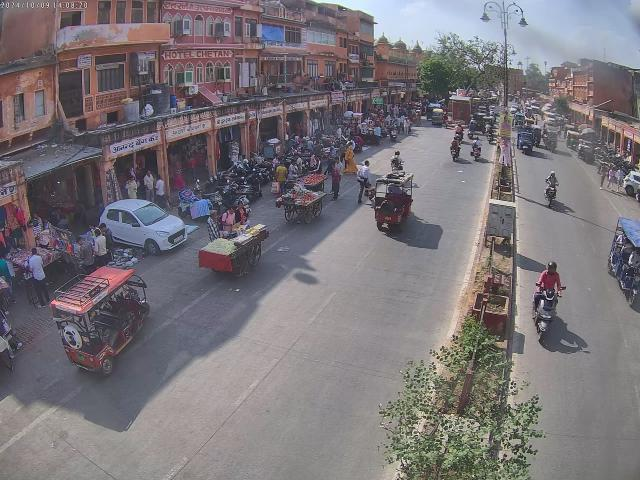auto: (48, 264, 151, 374), (607, 217, 640, 310), (370, 172, 416, 234), (514, 128, 538, 154)
helmet: (546, 260, 558, 270), (550, 171, 556, 177)
motorbike-rider: (542, 171, 559, 207), (448, 138, 462, 161), (390, 151, 404, 173), (470, 138, 482, 161)
person: (78, 227, 98, 262), (140, 171, 154, 198), (123, 177, 137, 199)
scooty-rider: (530, 260, 564, 342)
vendor: (197, 223, 270, 278), (282, 190, 326, 226)
